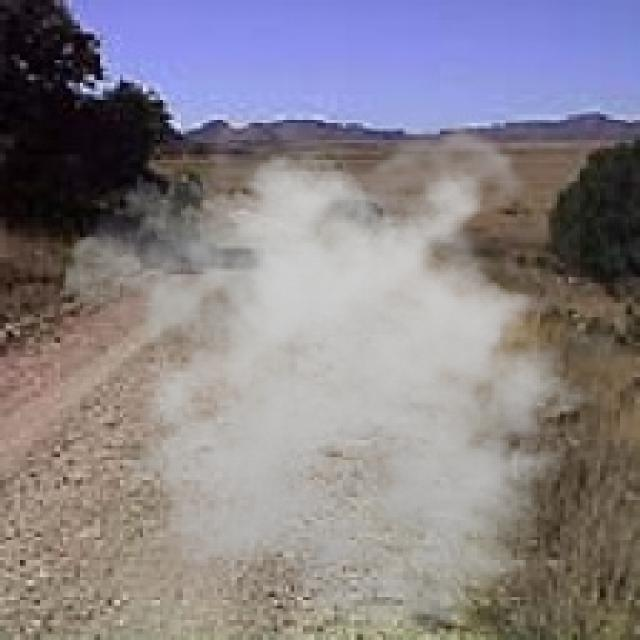smoke: (66, 117, 620, 634)
